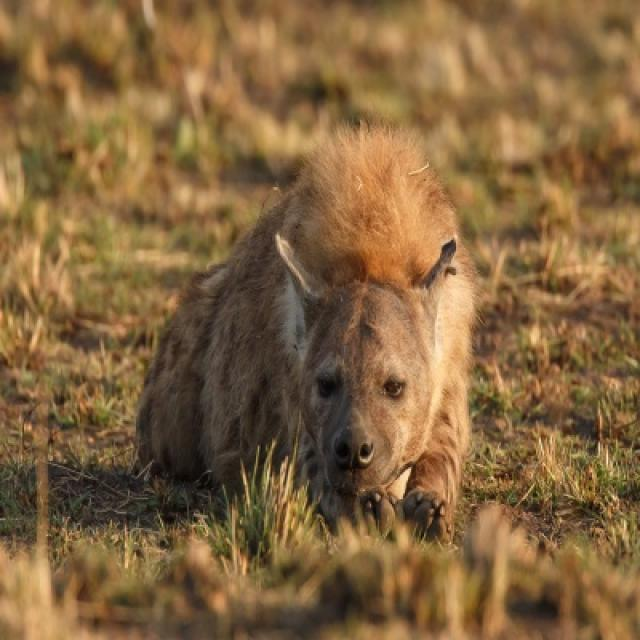hyena: (134, 126, 478, 546)
